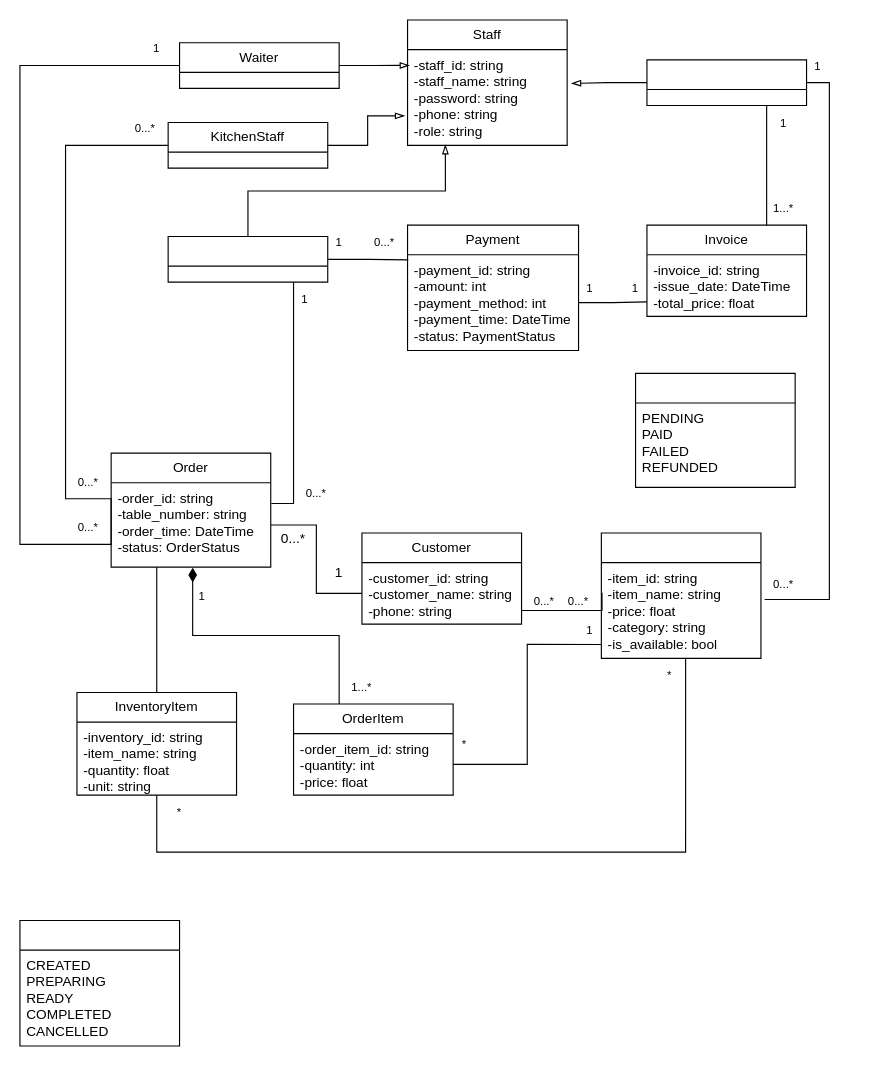
This 872x1069 diagram has some shape labels left out. The shapes that lost their labels are listed below. From the top down, each one's box as (x1, y1, x2, y2) in pixels, then its label:
(646, 59, 807, 105): Manager
(167, 235, 328, 282): Cashier
(634, 372, 795, 487): <<enumeration>> PaymentStatus
(600, 532, 761, 658): MenuItem
(19, 919, 180, 1046): <<enumeration>> OrderStatus
